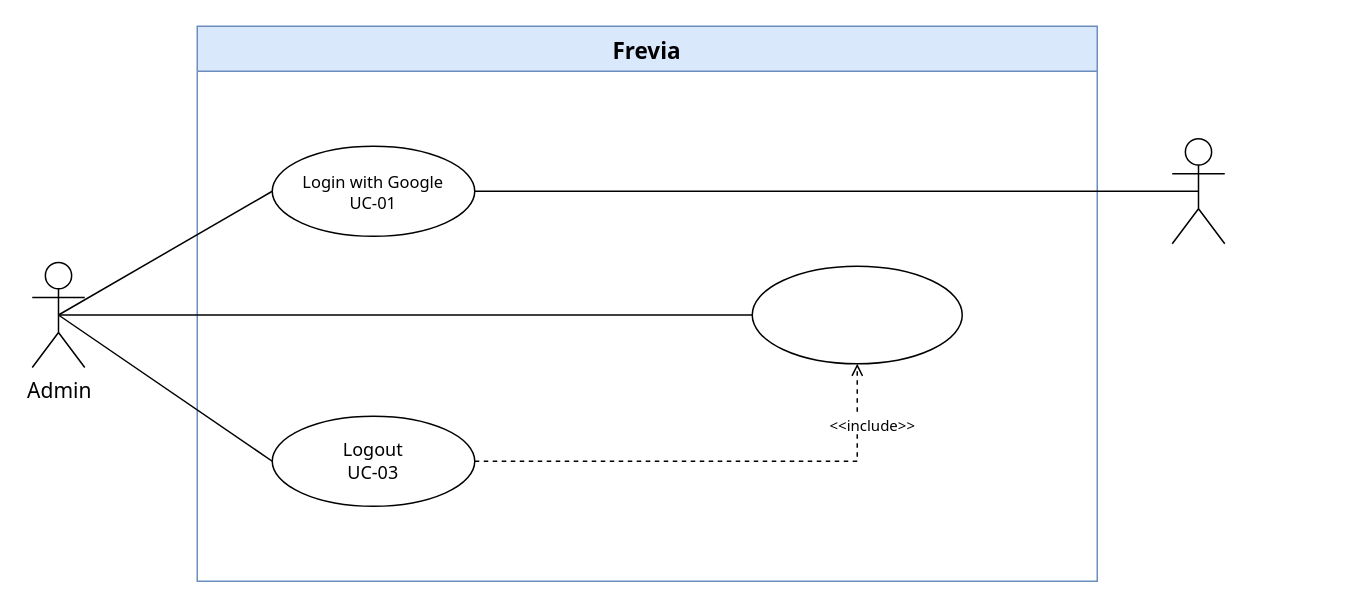
This 1352x608 diagram has some shape labels left out. The shapes that lost their labels are listed below. From the top down, each one's centre as x and y in pixels, then its label:
(x=1198, y=190): Google Authentication Service
(x=856, y=314): Login UC-02
